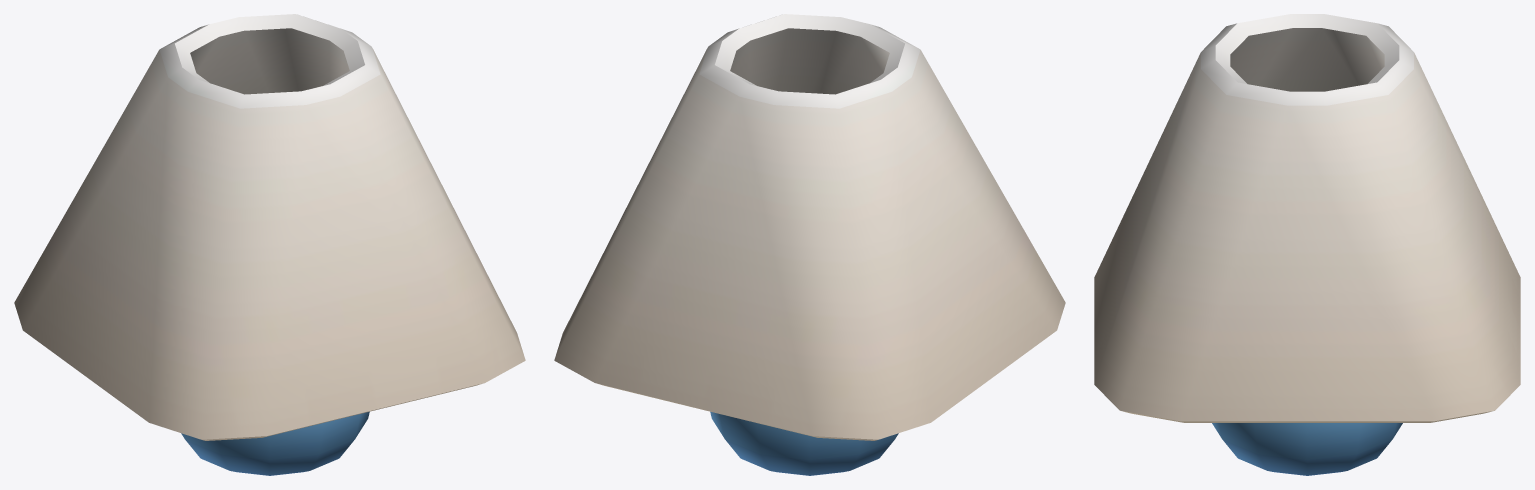
File: fur-lamp-table.glb
The picture shows the model from 3 angles, left to right: view 1: azimuth 30°, elevation 25°; view 2: azimuth 150°, elevation 25°; view 3: azimuth 270°, elevation 25°; orthographic projection.
Visible parts, largest first — view 1: lamp_table; view 2: lamp_table; view 3: lamp_table.
Part boxes in pixels (x1,y1,x2,y2): lamp_table: [14, 14, 525, 475]; lamp_table: [554, 14, 1065, 475]; lamp_table: [1094, 14, 1520, 475].
Bounding box in the file's own units: 1 × 1.02 × 1.
1 material, 1 textured.
